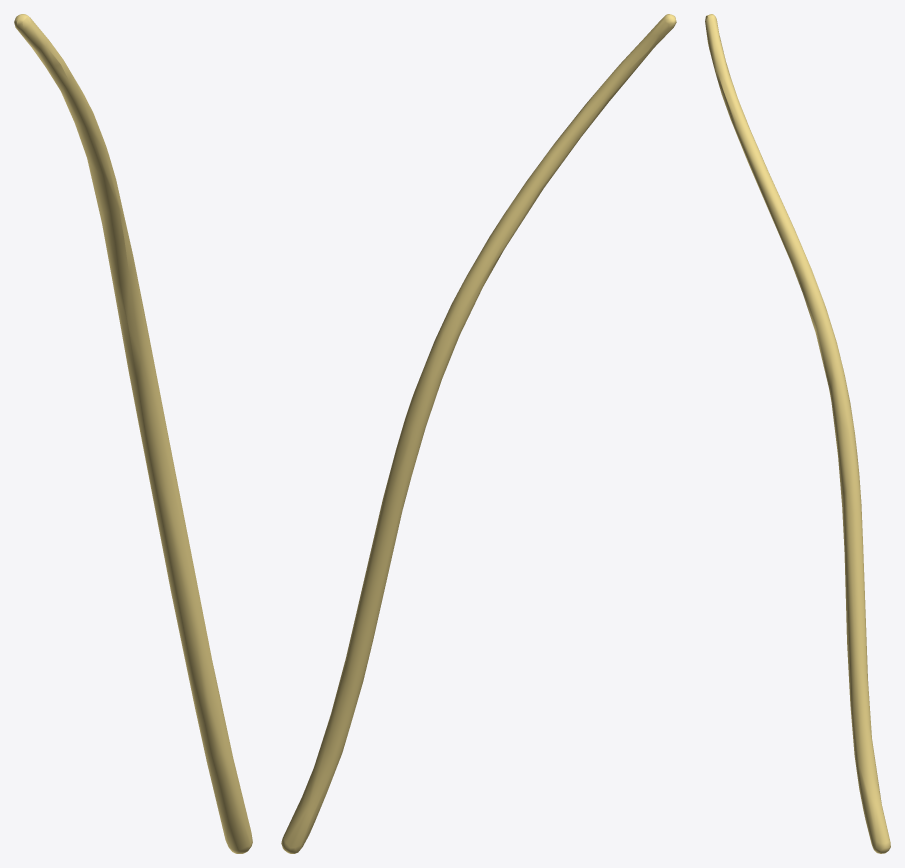
File: fma52774_fj3971.glb
The picture shows the model from 3 angles, left to right: view 1: azimuth 30°, elevation 25°; view 2: azimuth 150°, elevation 25°; view 3: azimuth 270°, elevation 25°; orthographic projection. The views are drawn at different scales.
Visible parts, largest first — view 1: FMA52774_FJ3971; view 2: FMA52774_FJ3971; view 3: FMA52774_FJ3971.
Boxes of the visible parts, box(x1,y1,x2,y2) form: FMA52774_FJ3971: box(14, 14, 252, 853); FMA52774_FJ3971: box(281, 14, 676, 853); FMA52774_FJ3971: box(705, 14, 890, 853).
Bounding box in the file's own units: 0.00891 × 0.0242 × 0.00565.
